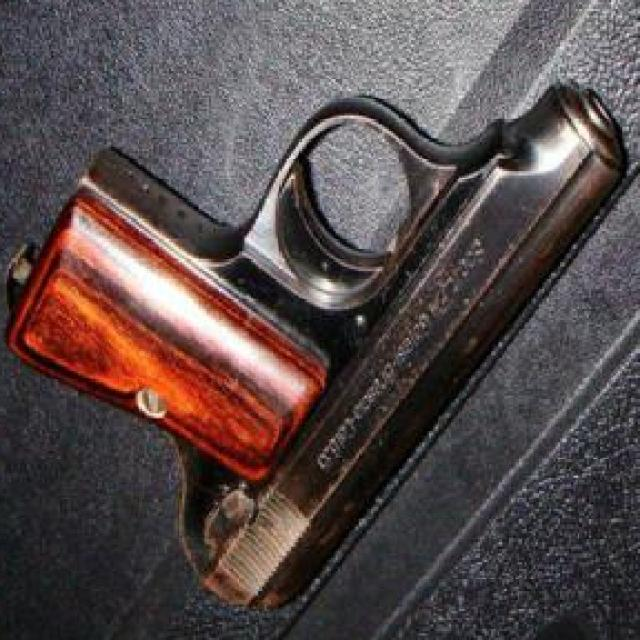pistol: (4, 80, 629, 609)
